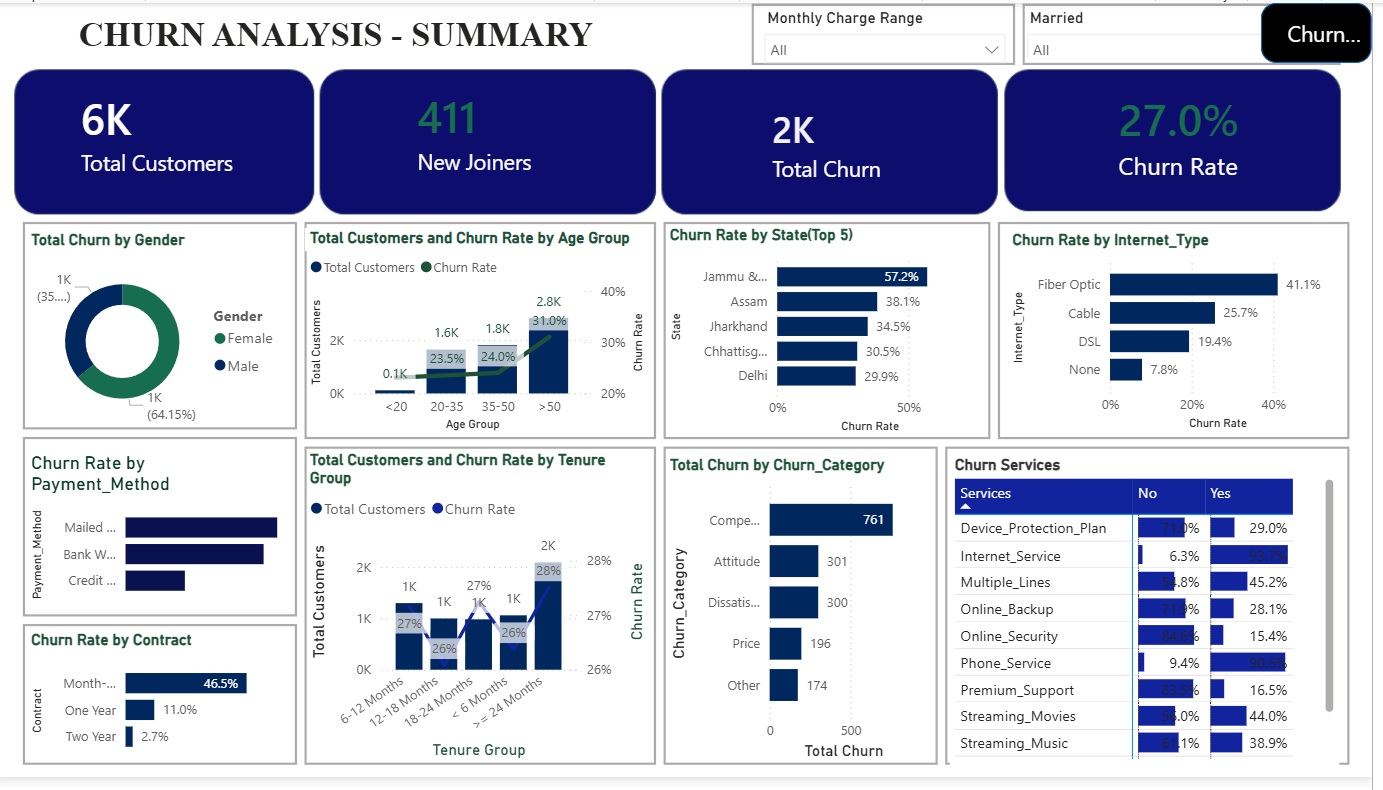

Layout of this report page (visuals, bound fields, positions):
{"tool":"powerbi","page":{"name":"Summary","canvas":[1280,720],"ordinal":0},"visuals":[{"type":"cardVisual","fields":{"Data":["tbl_Measures.Total Customers"]},"box":[50,60,223.3,120],"z":0},{"type":"cardVisual","fields":{"Data":["tbl_Measures.New Joiners"]},"box":[363.3,33.3,231.7,170],"z":1000},{"type":"cardVisual","fields":{"Data":["tbl_Measures.Total Churn"]},"box":[693.3,45,266.7,170],"z":2000},{"type":"cardVisual","fields":{"Data":["tbl_Measures.Churn Rate"]},"box":[1015,50,260,145],"z":3000},{"type":"donutChart","fields":{"Category":["prod_Churn.Gender"],"Y":["tbl_Measures.Total Churn"]},"box":[28.2,211.3,245.4,189.9],"z":4000},{"type":"lineStackedColumnComboChart","fields":{"Category":["mapping_AgeGrp.Age Group"],"Y":["tbl_Measures.Total Customers"],"Y2":["tbl_Measures.Churn Rate"]},"box":[287.8,208.9,321.7,193.9],"z":5000},{"type":"clusteredBarChart","fields":{"Category":["prod_Churn.Contract"],"Y":["tbl_Measures.Churn Rate"]},"box":[28.2,583.6,248.7,124.4],"z":6000},{"type":"lineStackedColumnComboChart","fields":{"Category":["mapping_TenureGrp.Tenure Group"],"Y":["tbl_Measures.Total Customers"],"Y2":["tbl_Measures.Churn Rate"]},"box":[287.8,416.7,321.7,291.7],"z":7000},{"type":"clusteredBarChart","title":"Churn Rate by State(Top 5)","fields":{"Category":["prod_Churn.State"],"Y":["tbl_Measures.Churn Rate"]},"box":[622.2,207.2,295,197.8],"z":8000},{"type":"clusteredBarChart","fields":{"Category":["prod_Churn.Churn_Category"],"Y":["tbl_Measures.Total Churn"]},"box":[622.2,420.6,251.1,287.8],"z":9000},{"type":"clusteredBarChart","fields":{"Category":["prod_Churn.Internet_Type"],"Y":["tbl_Measures.Churn Rate"]},"box":[941.1,211.1,313.9,190],"z":10000},{"type":"pivotTable","title":"Churn Services","fields":{"Rows":["prod_Services.Services"],"Columns":["prod_Services.Status"],"Values":["Sum(prod_Services.Churn Status)"]},"box":[887.2,420.6,362.8,287.8],"z":11000},{"type":"slicer","fields":{"Values":["prod_Churn.Monthly Charge Status"]},"box":[704.3,0,244.3,60],"z":12000},{"type":"slicer","fields":{"Values":["prod_Churn.Married"]},"box":[949.2,0,296.9,50],"z":13000},{"type":"textbox","box":[72,5.3,661.3,50.7],"z":14000},{"type":"shape","box":[1177.1,0,102.9,55.7],"z":15000},{"type":"clusteredBarChart","fields":{"Category":["prod_Churn.Payment_Method"],"Y":["tbl_Measures.Churn Rate"]},"box":[27.4,417.2,247,145.5],"z":16000}]}

Visuals, with their boxes in screenshot pixels (x1, y1, x2, y2), scaled from the page's 1280x720 canvas onto the 1383x790 screenshot:
cardVisual - tbl_Measures.Total Customers: left=54, top=66, right=295, bottom=198
cardVisual - tbl_Measures.New Joiners: left=393, top=37, right=643, bottom=223
cardVisual - tbl_Measures.Total Churn: left=749, top=49, right=1037, bottom=236
cardVisual - tbl_Measures.Churn Rate: left=1097, top=55, right=1378, bottom=214
donutChart - prod_Churn.Gender x tbl_Measures.Total Churn: left=30, top=232, right=296, bottom=440
lineStackedColumnComboChart - mapping_AgeGrp.Age Group x tbl_Measures.Total Customers: left=311, top=229, right=659, bottom=442
clusteredBarChart - prod_Churn.Contract x tbl_Measures.Churn Rate: left=30, top=640, right=299, bottom=777
lineStackedColumnComboChart - mapping_TenureGrp.Tenure Group x tbl_Measures.Total Customers: left=311, top=457, right=659, bottom=777
"Churn Rate by State(Top 5)" clusteredBarChart: left=672, top=227, right=991, bottom=444
clusteredBarChart - prod_Churn.Churn_Category x tbl_Measures.Total Churn: left=672, top=461, right=944, bottom=777
clusteredBarChart - prod_Churn.Internet_Type x tbl_Measures.Churn Rate: left=1017, top=232, right=1356, bottom=440
"Churn Services" pivotTable: left=959, top=461, right=1351, bottom=777
slicer - prod_Churn.Monthly Charge Status: left=761, top=0, right=1025, bottom=66
slicer - prod_Churn.Married: left=1026, top=0, right=1346, bottom=55
textbox: left=78, top=6, right=792, bottom=61
shape: left=1272, top=0, right=1382, bottom=61
clusteredBarChart - prod_Churn.Payment_Method x tbl_Measures.Churn Rate: left=30, top=458, right=296, bottom=617
